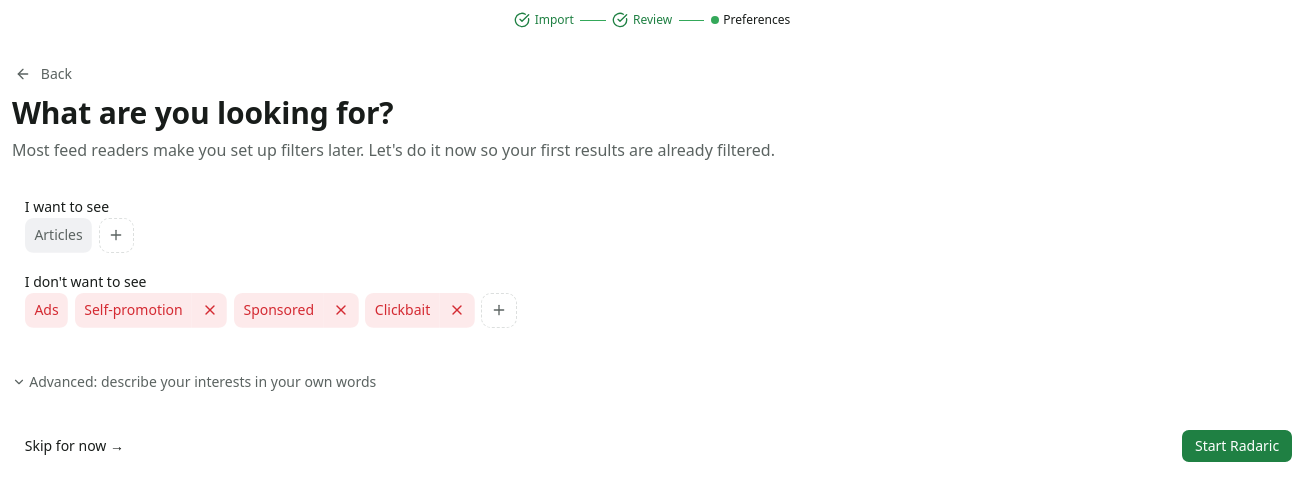
PreferencesPage — custom category inputs › AC-4 (RAD-216): clicking the ✓ confirm button adds the typed value and closes the input
The width and height of the screenshot is (1304, 479).
Click the button named "Add liked category" at (116, 235), box x1=99 y1=218 x2=134 y2=253
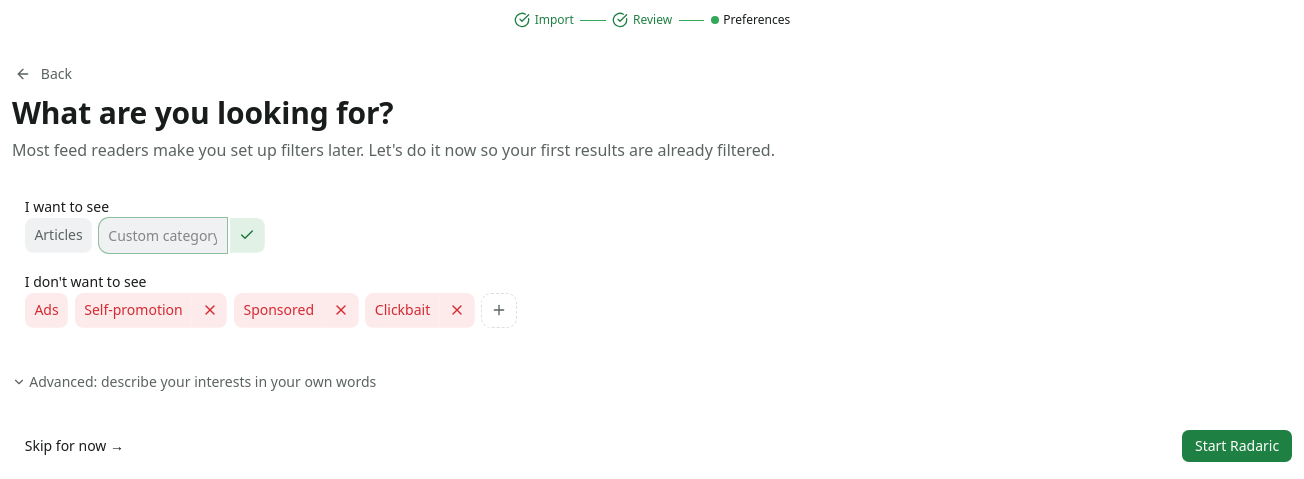
Type "Tournaments" into the field at (163, 235), box x1=99 y1=218 x2=227 y2=253
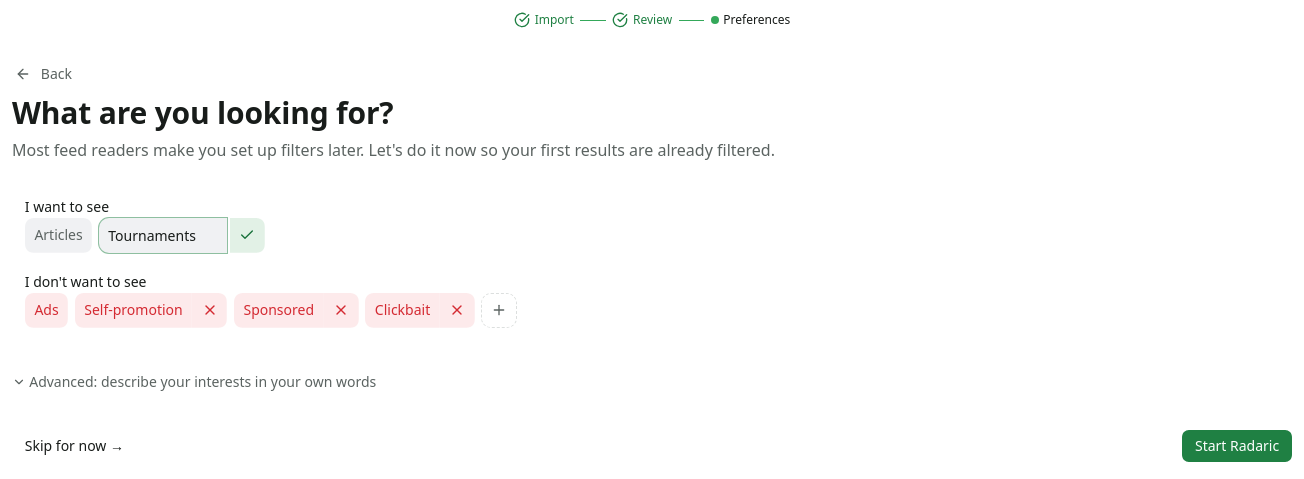
Click the button named "confirm" at (248, 235), box x1=230 y1=218 x2=265 y2=253
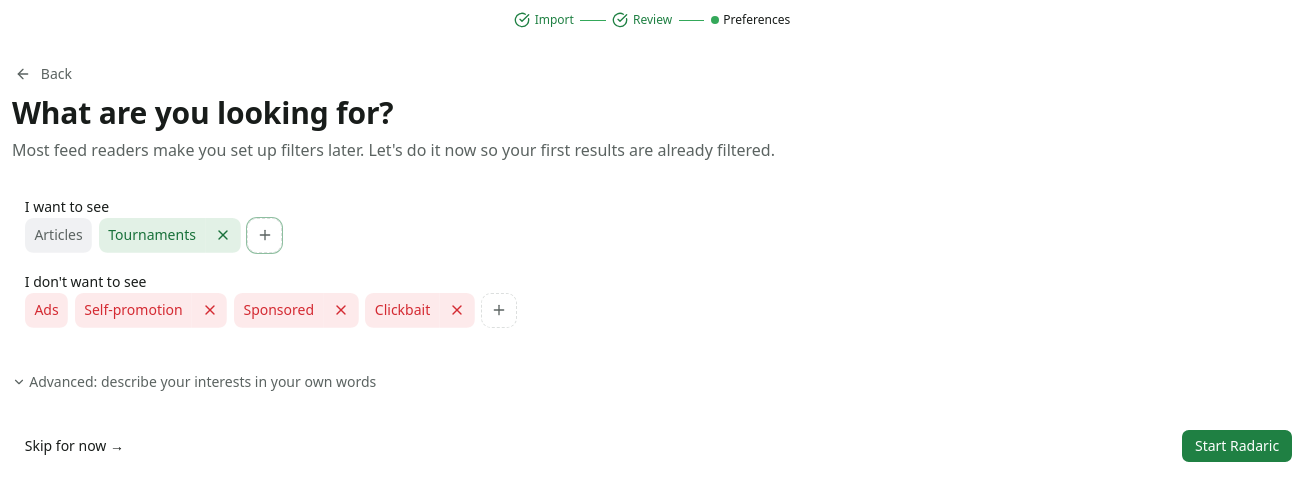
Result: the field is gone
